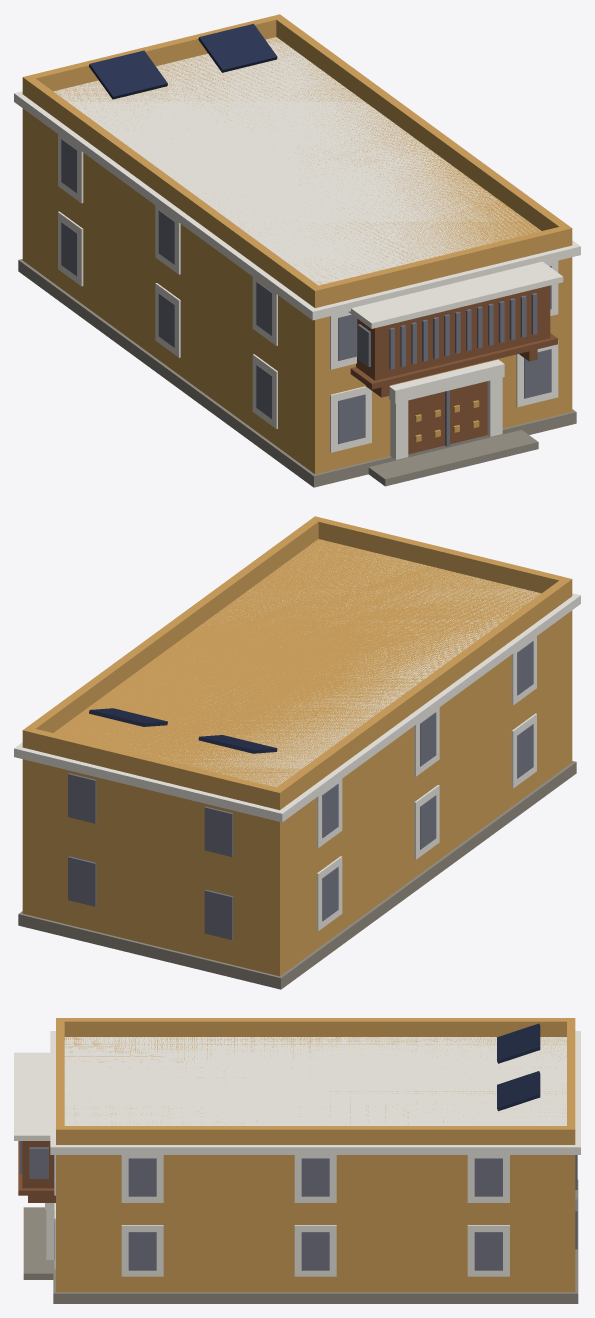
File: house-1x2-2f-quincha-a-solar.glb
3 renders of one model, top to bottom at view 1: azimuth 30°, elevation 25°; view 2: azimuth 150°, elevation 25°; view 3: azimuth 270°, elevation 25°, orthographic. The views are drawn at different scales.
Parts seen in each view (by area): view 1: house-1x2-2f-quincha-a-solar; view 2: house-1x2-2f-quincha-a-solar; view 3: house-1x2-2f-quincha-a-solar.
Part boxes in pixels (<box>): house-1x2-2f-quincha-a-solar: <box>14,14,580,487</box>; house-1x2-2f-quincha-a-solar: <box>14,516,580,989</box>; house-1x2-2f-quincha-a-solar: <box>14,1018,580,1303</box>.
Bounding box in the file's own units: 0.98 × 0.7386 × 2.02.
1 material, 1 textured.
